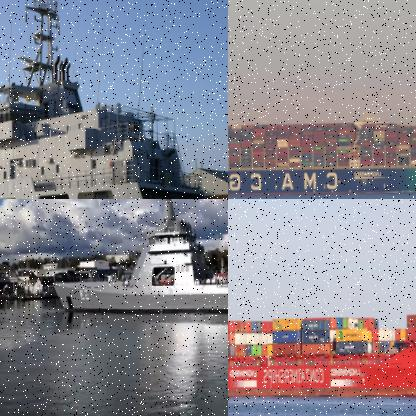Merchant Ship: (228, 243, 415, 404), (228, 113, 415, 199)
Military Ship: (0, 0, 227, 198), (49, 199, 227, 316)
